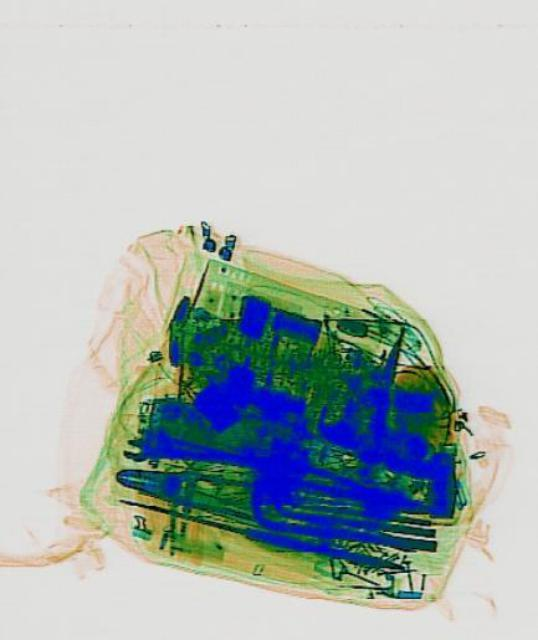Pliers: (112, 456, 255, 520)
Wrench: (120, 434, 237, 474)
